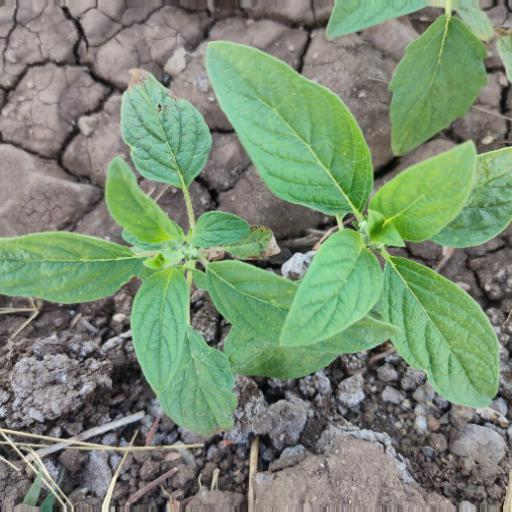crop: (1, 60, 393, 439), (200, 32, 512, 409)
